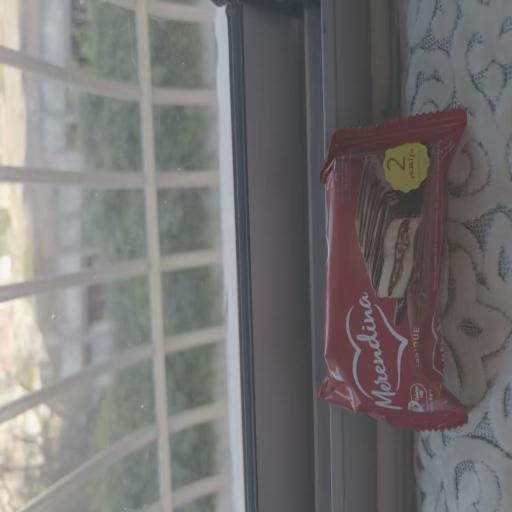merendina: (310, 110, 499, 494)
